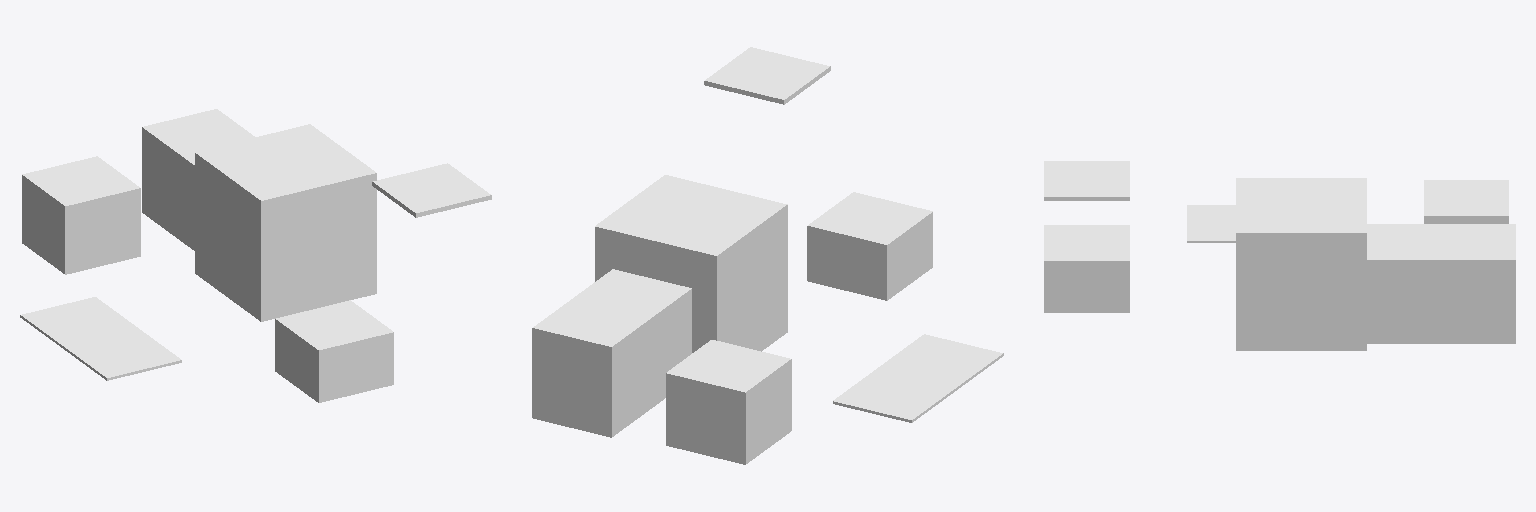
The robot description file, URDF, robot "cubeWorld":
<?xml version="1.0"?>
<robot name="cubeWorld">
  <link name="base_link">
    <visual>
      <origin xyz="0 0 0"/>
      <geometry>
        <mesh filename="package://hpp_environments/meshes/multicontact/cube_non_coplanar2.stl"/>
      </geometry>
      <material name="white">
        <color rgba="1 1 1 1"/>
      </material>
    </visual>
    <collision>
      <origin xyz="0 0 0"/>
      <geometry>
        <mesh filename="package://hpp_environments/meshes/multicontact/cube_non_coplanar2_panel.stl"/>
      </geometry>
    </collision>
  </link>
</robot>

--- Facts derived from the render (not from the file) ---
3 views of the same robot in one strip: view 1: azimuth 30°, elevation 25°; view 2: azimuth 150°, elevation 25°; view 3: azimuth 270°, elevation 25° (orthographic).
Model cubeWorld with 1 links and 0 joints (none), rooted at base_link, posed every joint at zero.
Links seen in each view (by area): view 1: base_link; view 2: base_link; view 3: base_link.
Boxes of the visible links, left/top/right/bottom form: base_link: left=20, top=109, right=491, bottom=402; base_link: left=532, top=47, right=1003, bottom=464; base_link: left=1044, top=161, right=1515, bottom=350.
Bounding box of the posed robot: 12.38 × 16.54 × 6.33 m (x, y, z).
Meshes: 1 distinct files referenced, 1 mesh visuals loaded (1 binary STL).